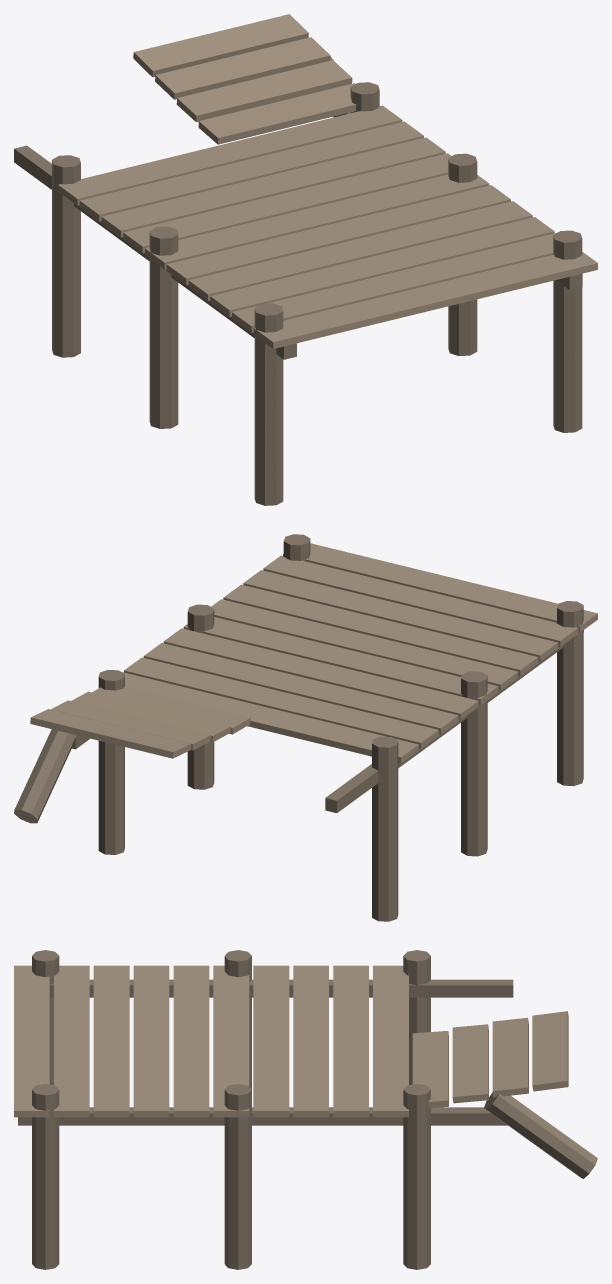
The model's file is dm_dockbroken.glb.
3 views of the same model, one above another, from view 1: azimuth 30°, elevation 25°; view 2: azimuth 150°, elevation 25°; view 3: azimuth 270°, elevation 25° (orthographic). The views are drawn at different scales.
Visible parts, largest first — view 1: dm_dockbroken; view 2: dm_dockbroken; view 3: dm_dockbroken.
Part boxes in pixels (x1,y1,x2,y2): dm_dockbroken: [14, 14, 597, 505]; dm_dockbroken: [14, 534, 597, 921]; dm_dockbroken: [14, 950, 597, 1269].
Size of the model in its own units: 2.5 by 1.49 by 4.24.
